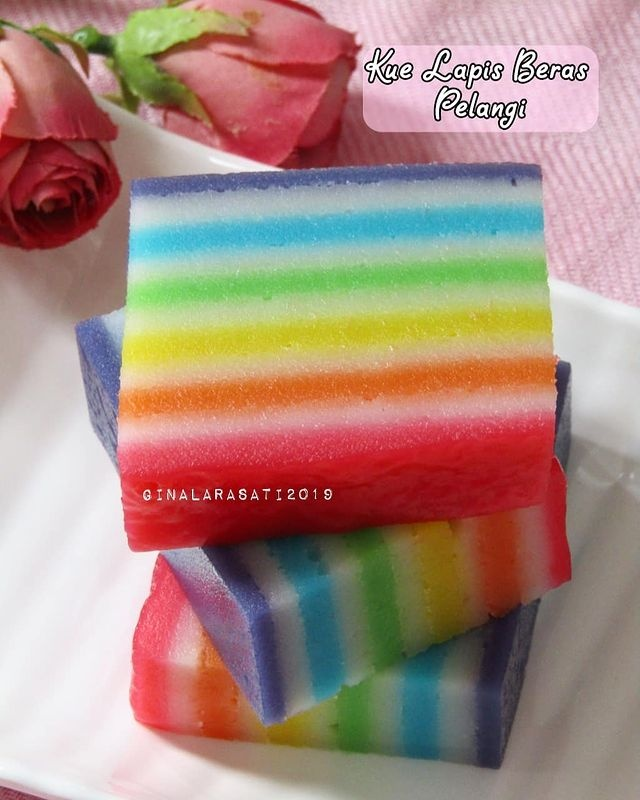kue_lapis_pelangi: (115, 162, 545, 550)
